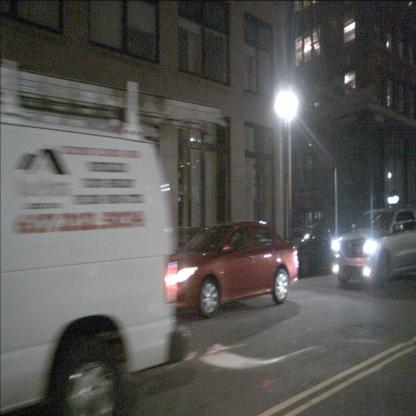vehicle-car: (0, 124, 193, 408), (160, 221, 299, 320), (332, 209, 416, 288), (278, 223, 340, 278)
